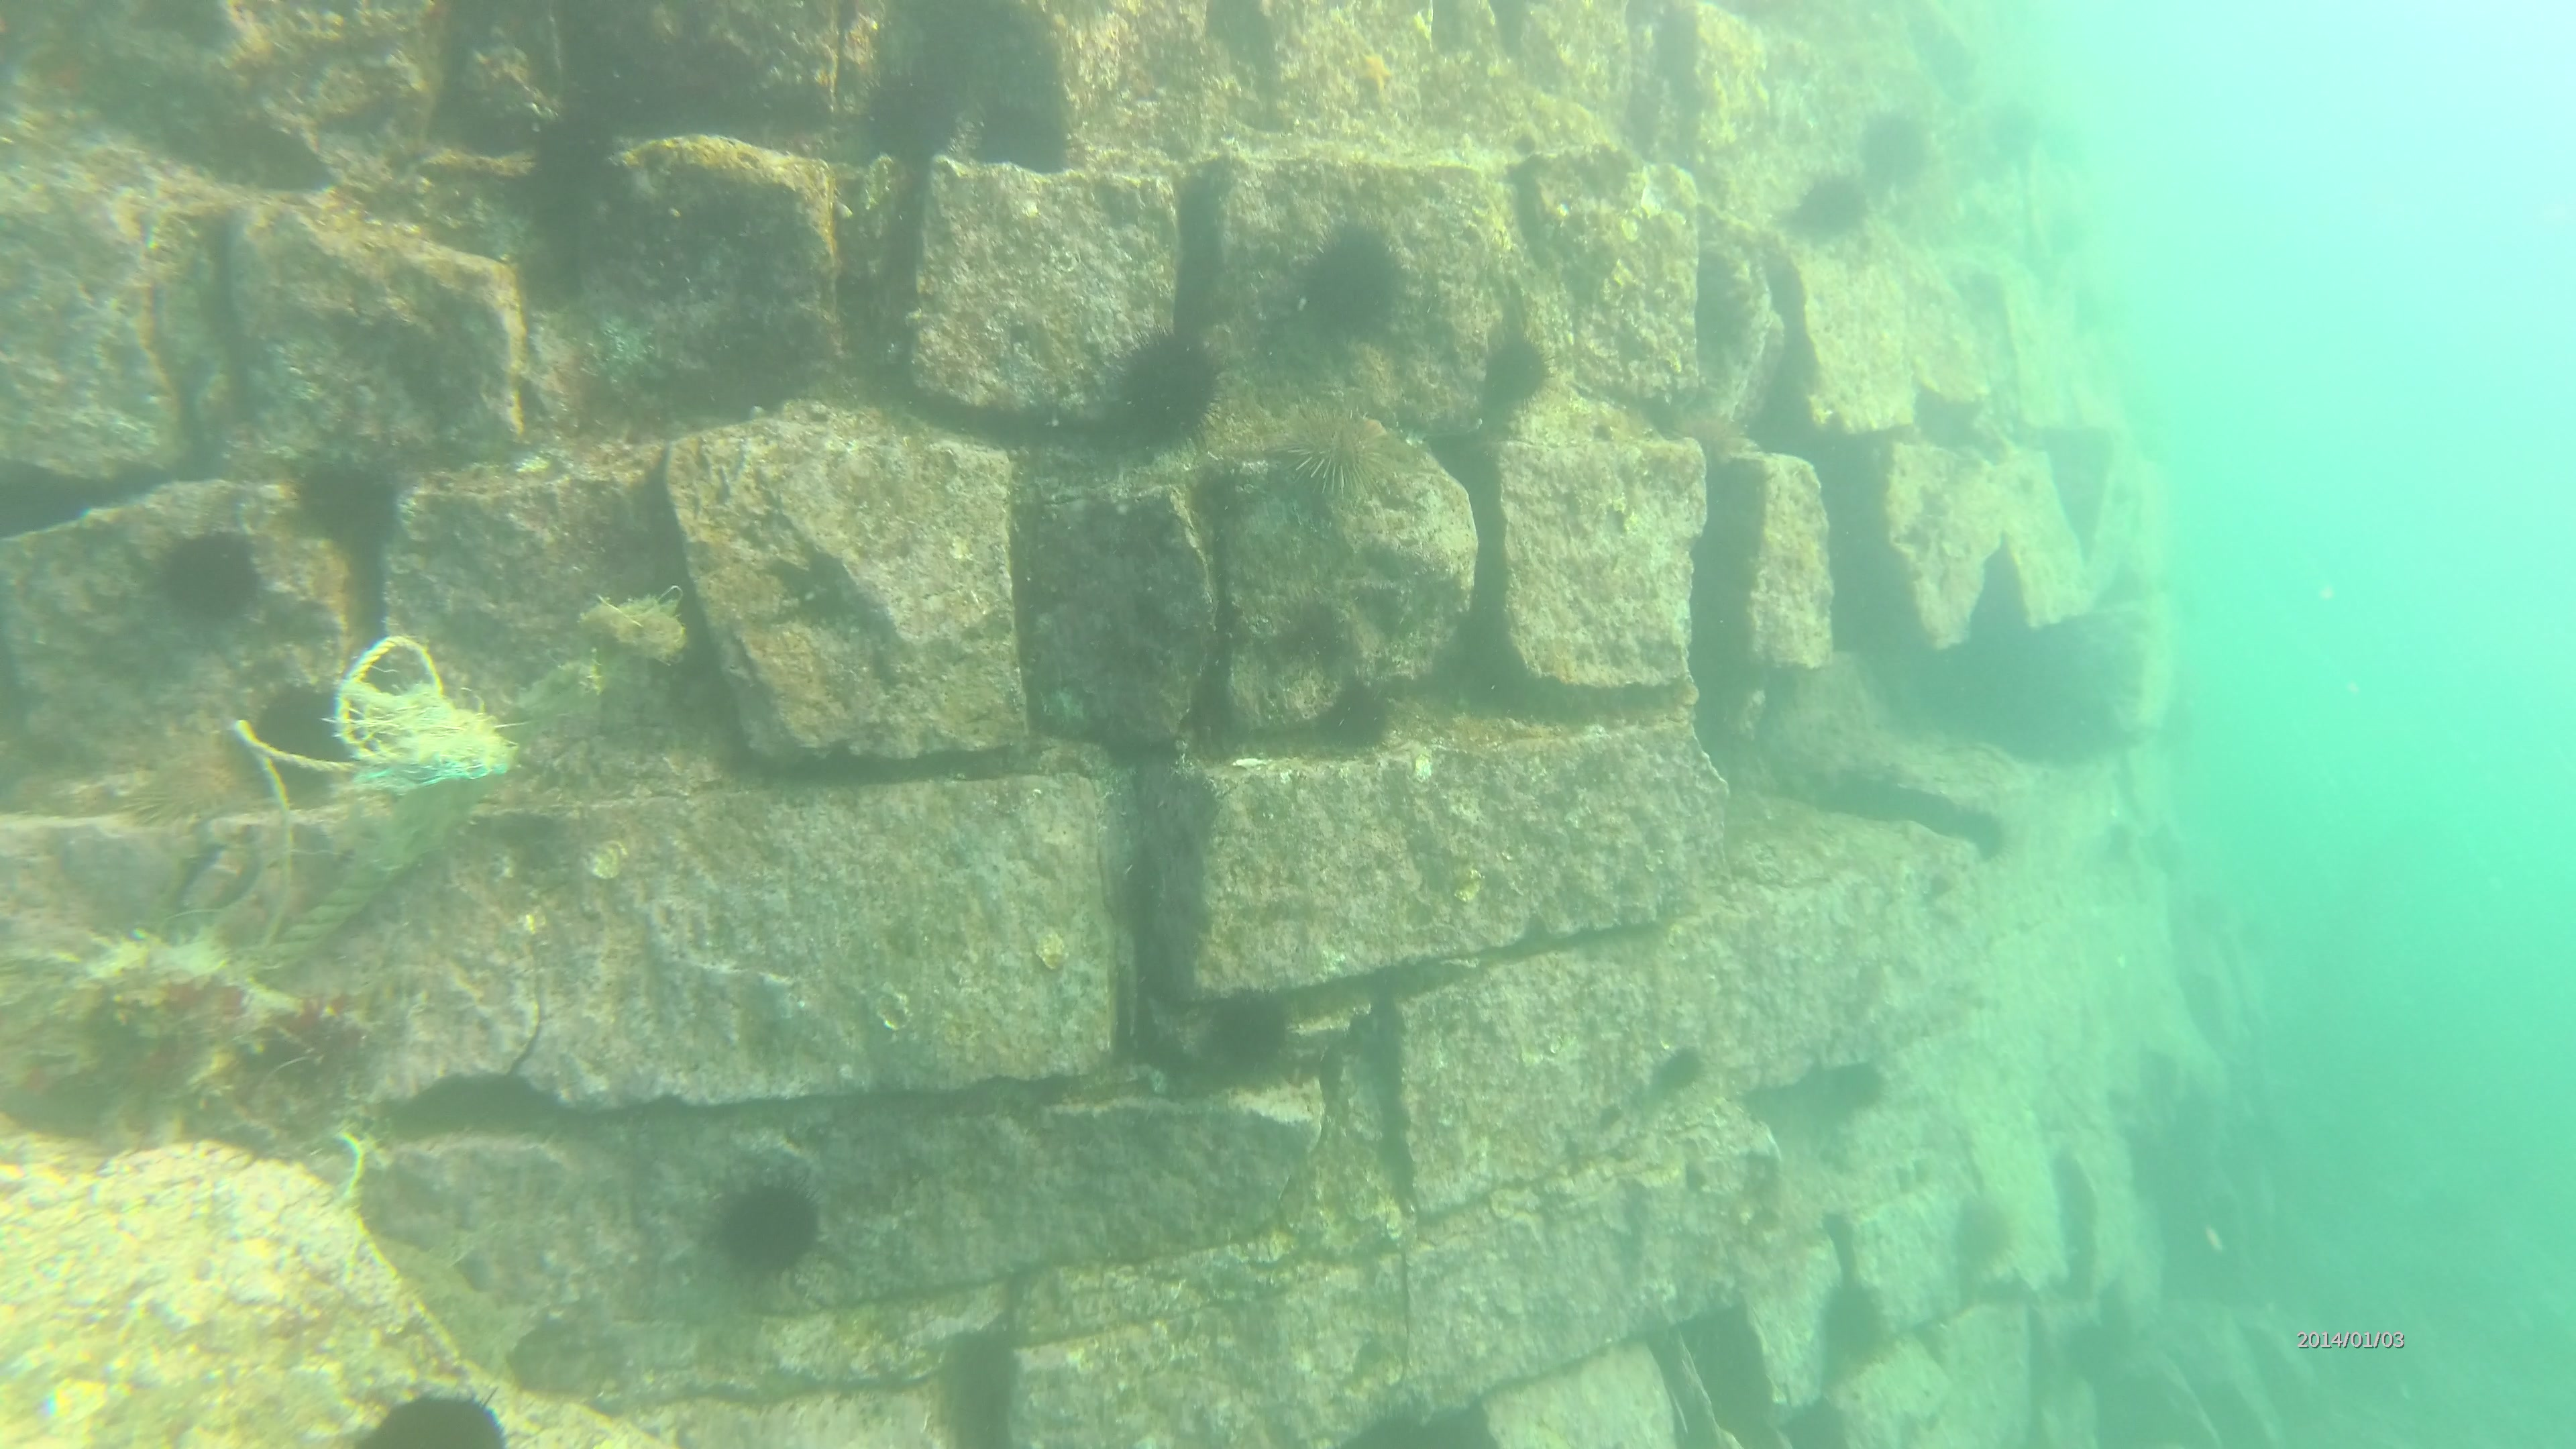echinus: (249, 679, 370, 800), (1309, 214, 1401, 349), (1122, 334, 1224, 455), (718, 1175, 821, 1283), (1277, 407, 1384, 508), (1203, 982, 1297, 1092), (161, 527, 255, 637), (865, 62, 957, 170), (354, 1387, 513, 1449), (304, 456, 400, 548), (1821, 1277, 1898, 1376), (1780, 170, 1872, 251), (1472, 333, 1557, 414), (1944, 1201, 2024, 1281), (1854, 106, 1932, 188), (977, 97, 1060, 170), (1668, 407, 1743, 476)
